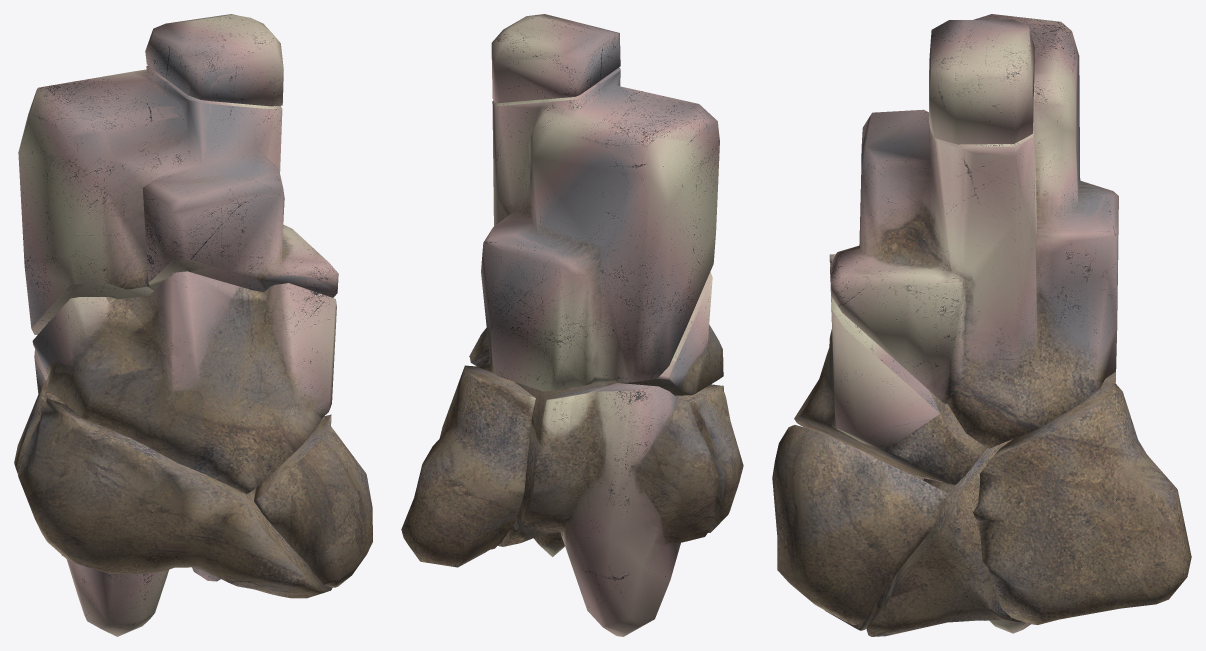
Rendered from SM_Mineral_3_Pieces.fbx.
3 renders of one model, left to right at view 1: azimuth 30°, elevation 25°; view 2: azimuth 150°, elevation 25°; view 3: azimuth 270°, elevation 25°, orthographic. The views are drawn at different scales.
Parts seen in each view (by area): view 1: SM_Mineral_3_Piece_4, SM_Mineral_3_Piece_2, SM_Mineral_3_Piece_1, SM_Mineral_3_Piece_7, SM_Mineral_3_Piece_5, SM_Mineral_3_Piece_3; view 2: SM_Mineral_3_Piece_4, SM_Mineral_3_Piece_3, SM_Mineral_3_Piece_6, SM_Mineral_3_Piece_5, SM_Mineral_3_Piece_2, SM_Mineral_3_Piece_1; view 3: SM_Mineral_3_Piece_4, SM_Mineral_3_Piece_6, SM_Mineral_3_Piece_7, SM_Mineral_3_Piece_2, SM_Mineral_3_Piece_5, SM_Mineral_3_Piece_3.
Boxes of the visible parts, bbox=[...] form: SM_Mineral_3_Piece_4: bbox=[18, 65, 338, 335]; SM_Mineral_3_Piece_2: bbox=[32, 271, 336, 494]; SM_Mineral_3_Piece_1: bbox=[17, 398, 332, 598]; SM_Mineral_3_Piece_7: bbox=[254, 414, 372, 587]; SM_Mineral_3_Piece_5: bbox=[145, 14, 283, 106]; SM_Mineral_3_Piece_3: bbox=[14, 349, 168, 636]; SM_Mineral_3_Piece_4: bbox=[469, 67, 719, 391]; SM_Mineral_3_Piece_3: bbox=[497, 382, 718, 636]; SM_Mineral_3_Piece_6: bbox=[401, 365, 535, 567]; SM_Mineral_3_Piece_5: bbox=[491, 14, 620, 103]; SM_Mineral_3_Piece_2: bbox=[617, 272, 723, 395]; SM_Mineral_3_Piece_1: bbox=[675, 384, 743, 532]; SM_Mineral_3_Piece_4: bbox=[830, 14, 1118, 448]; SM_Mineral_3_Piece_6: bbox=[973, 371, 1191, 624]; SM_Mineral_3_Piece_7: bbox=[772, 425, 947, 625]; SM_Mineral_3_Piece_2: bbox=[794, 254, 987, 485]; SM_Mineral_3_Piece_5: bbox=[929, 19, 1034, 144]; SM_Mineral_3_Piece_3: bbox=[866, 439, 1030, 636].
Bounding box in the file's own units: 0.6861 × 0.8485 × 1.41.
